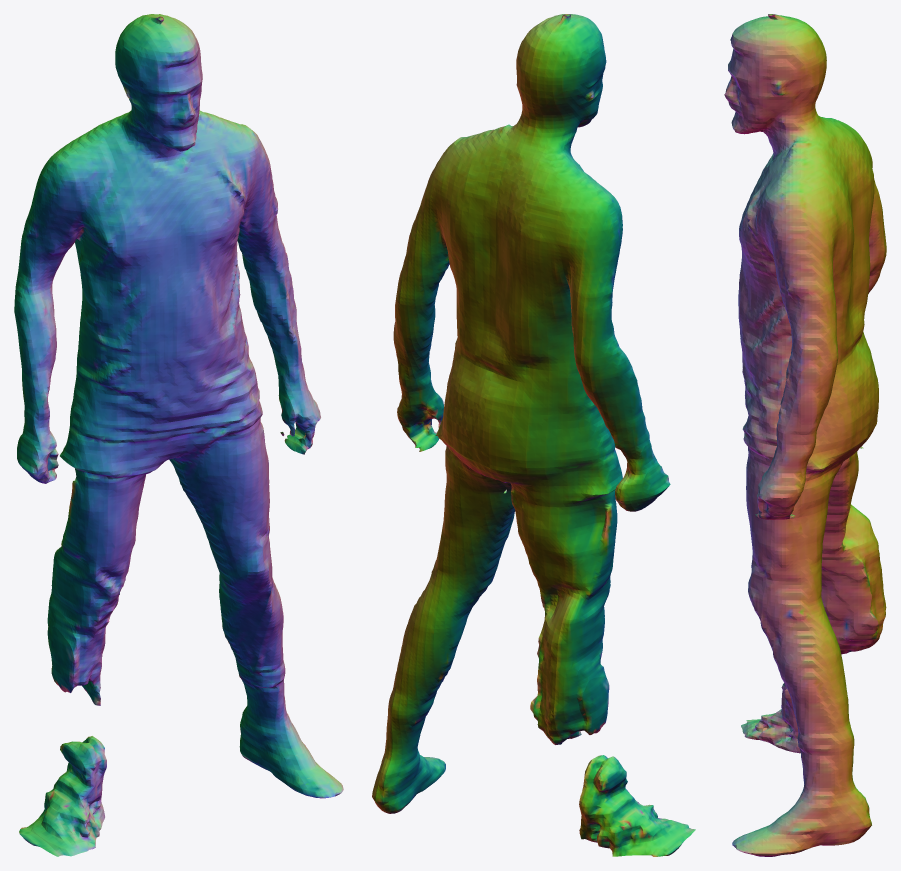
3 renders of one model, left to right at view 1: azimuth 30°, elevation 25°; view 2: azimuth 150°, elevation 25°; view 3: azimuth 270°, elevation 25°, orthographic. The views are drawn at different scales.
Size of the model in its own units: 0.6644 by 1.74 by 0.3348.
